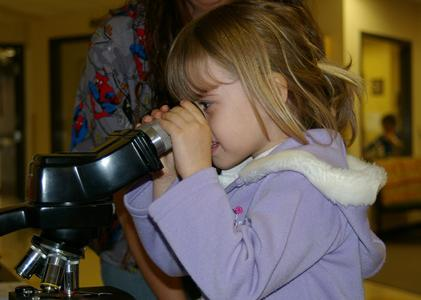person: (124, 3, 384, 299)
